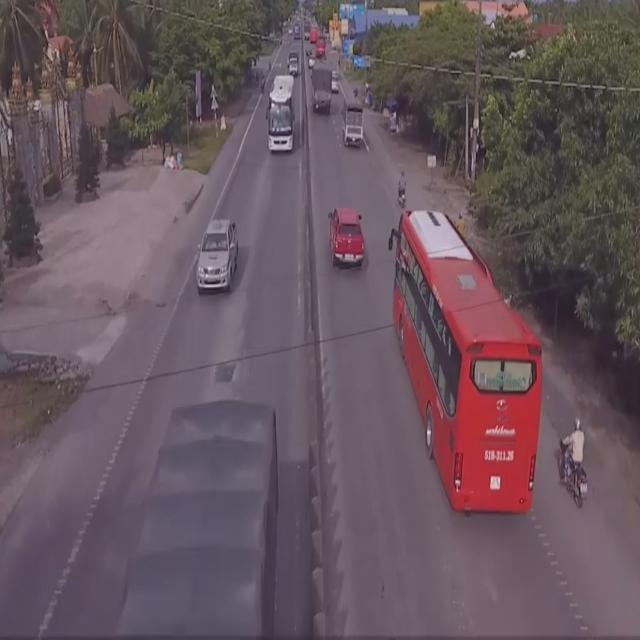bus: (389, 207, 544, 518), (264, 74, 298, 152)
car: (195, 213, 241, 294), (327, 202, 367, 272)
motorbike: (555, 417, 589, 511), (395, 165, 408, 210)
truck: (108, 401, 280, 640), (340, 96, 364, 148), (311, 63, 334, 114)
